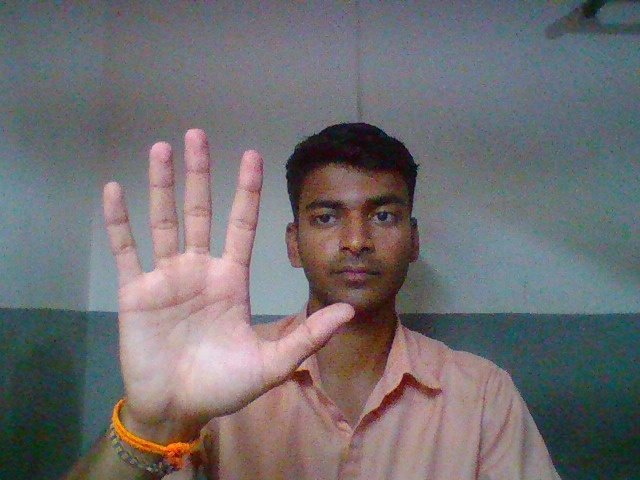Hello: (77, 121, 367, 432)
